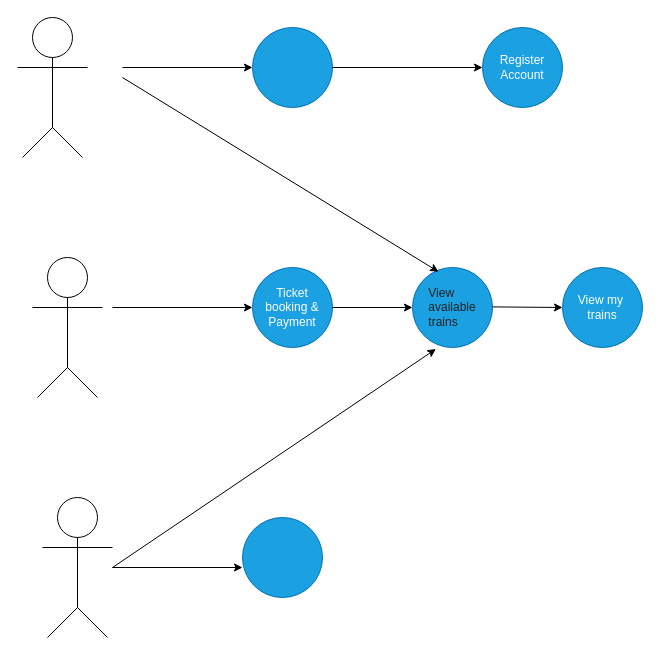
This 660x656 diagram has some shape labels left out. The centre of each missing label's shape, as x and y in pixels:
"login" belongs at [292,67].
"Manage bookings" belongs at [282,557].
